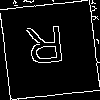R: (24, 25, 67, 75)
